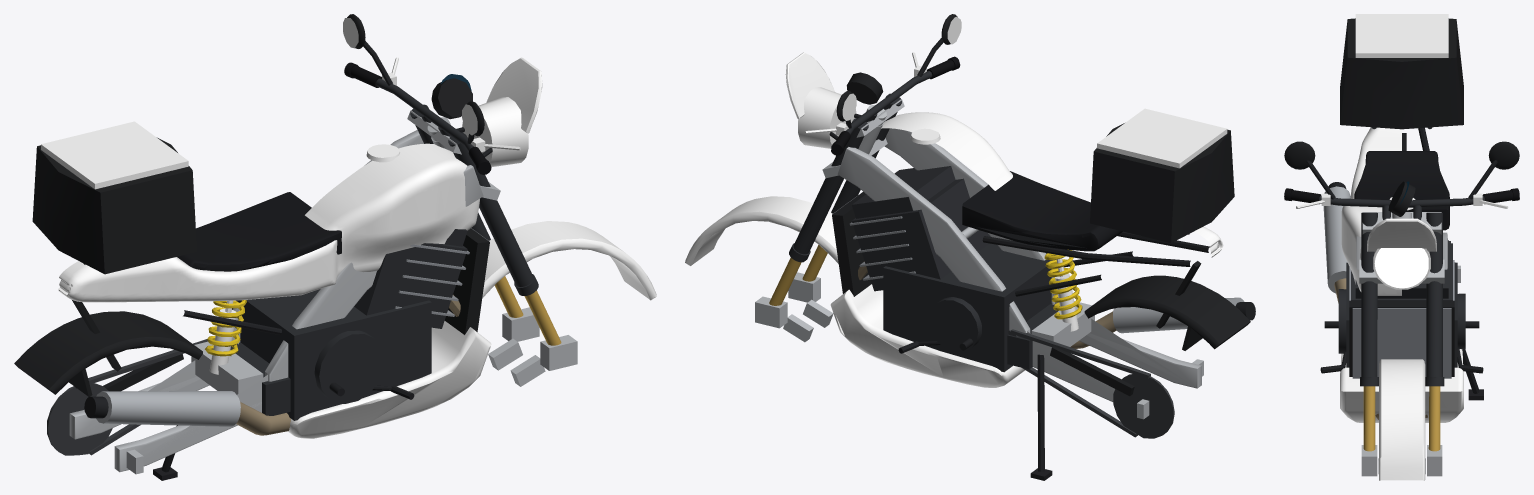
The model's file is body-n4-lod.glb.
The picture shows the model from 3 angles, left to right: view 1: azimuth 30°, elevation 25°; view 2: azimuth 150°, elevation 25°; view 3: azimuth 270°, elevation 25°; orthographic projection. The views are drawn at different scales.
Parts seen in each view (by area): view 1: part_1, body, part_0, part_2; view 2: part_1, part_0, part_2, body; view 3: part_1, part_0, part_2, body.
Part boxes in pixels (left/top/right/bottom): part_1: left=14, top=14, right=656, bottom=480; body: left=58, top=143, right=479, bottom=302; part_0: left=32, top=121, right=196, bottom=274; part_2: left=288, top=57, right=542, bottom=438; part_1: left=685, top=14, right=1255, bottom=480; part_0: left=1090, top=108, right=1234, bottom=242; part_2: left=785, top=52, right=1024, bottom=387; body: left=881, top=112, right=1223, bottom=257; part_1: left=1284, top=127, right=1519, bottom=480; part_0: left=1340, top=14, right=1463, bottom=129; part_2: left=1340, top=218, right=1463, bottom=422; body: left=1341, top=127, right=1401, bottom=295.
Size of the model in its own units: 1.96 by 1.22 by 0.7611.
